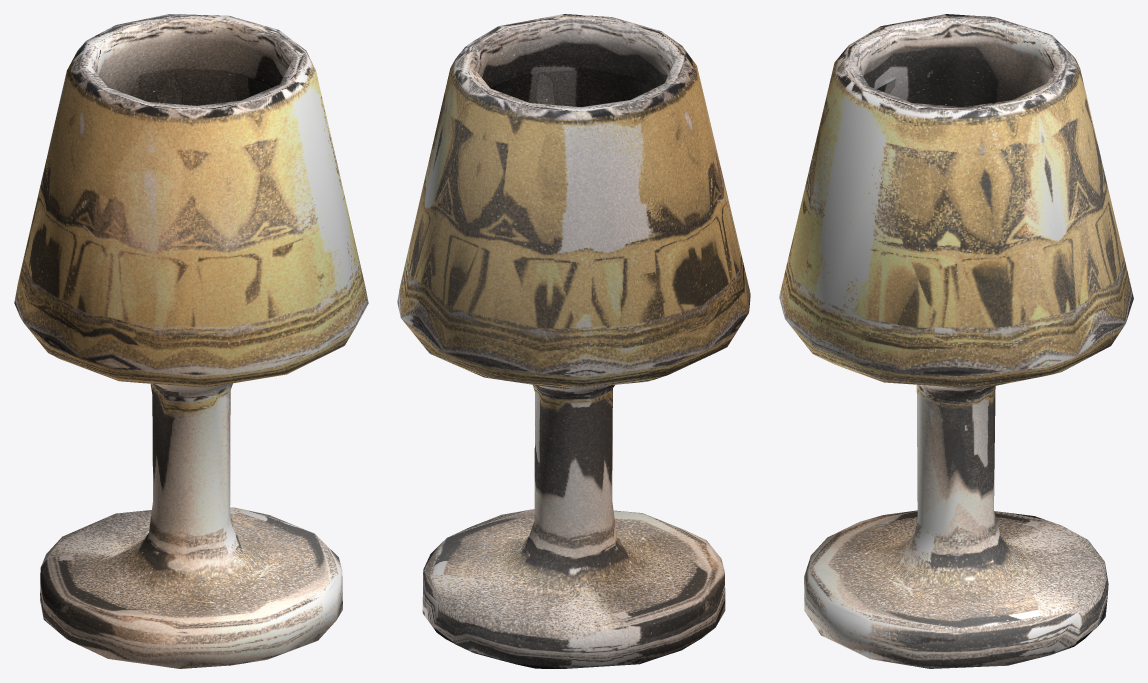
File: wine.fbx
The picture shows the model from 3 angles, left to right: view 1: azimuth 30°, elevation 25°; view 2: azimuth 150°, elevation 25°; view 3: azimuth 270°, elevation 25°; orthographic projection.
Visible parts, largest first — view 1: cup; view 2: cup; view 3: cup.
Part boxes in pixels (x1,y1,x2,y2): cup: [14, 14, 368, 668]; cup: [397, 14, 750, 668]; cup: [779, 14, 1133, 668].
Bounding box in the file's own units: 40.09 × 68.2 × 40.22.
Materials: 2 (2 with a texture image).
